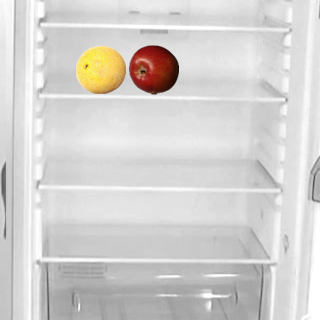Apple Braeburn: (128, 44, 178, 94)
Cantaloupe 1: (75, 44, 125, 94)
